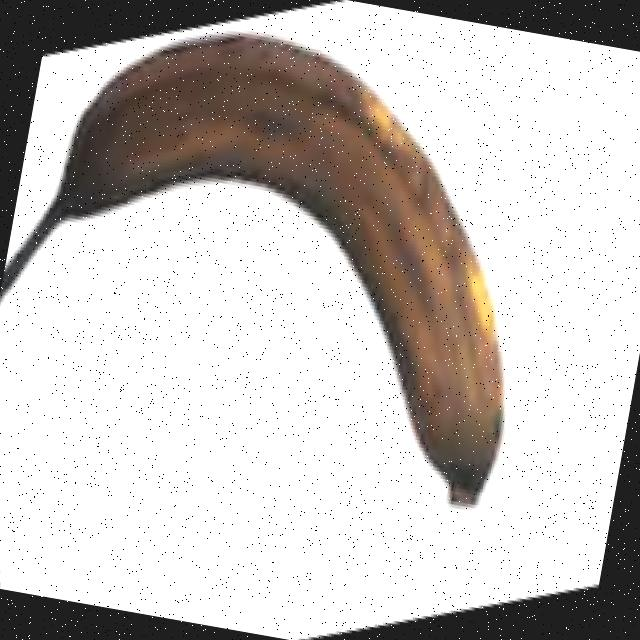Rotten: (0, 0, 565, 514)
